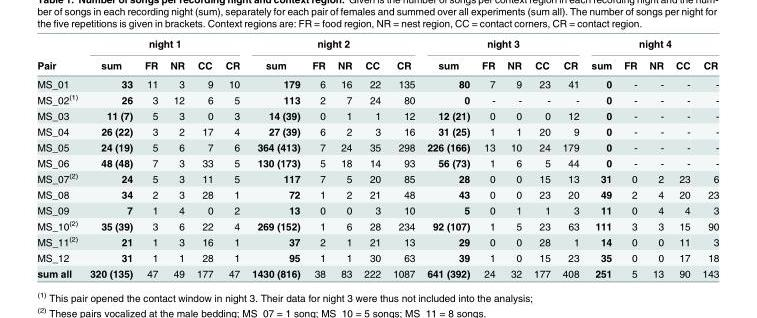table: (36, 37, 718, 278)
table column: (245, 37, 305, 278), (420, 37, 475, 278), (83, 37, 137, 278), (36, 37, 83, 278), (386, 37, 420, 278), (584, 37, 617, 278), (189, 37, 218, 278), (357, 37, 386, 278), (555, 37, 584, 278), (527, 37, 555, 278), (218, 37, 245, 278), (330, 37, 357, 278), (500, 37, 527, 278), (642, 37, 669, 278), (137, 37, 163, 278), (163, 37, 189, 278), (669, 37, 695, 278), (305, 37, 330, 278), (475, 37, 500, 278), (617, 37, 642, 278), (695, 37, 718, 278)
table column header: (36, 37, 718, 74)
table row: (36, 53, 718, 74), (36, 90, 718, 107), (36, 169, 718, 186), (36, 37, 718, 53), (36, 74, 718, 90), (36, 107, 718, 123), (36, 138, 718, 154), (36, 201, 718, 217), (36, 217, 718, 233), (36, 233, 718, 249), (36, 249, 718, 265), (36, 123, 718, 138), (36, 154, 718, 169), (36, 186, 718, 201), (36, 265, 718, 278)
table spanning cell: (245, 37, 420, 53), (420, 37, 584, 53), (83, 37, 245, 53), (584, 37, 718, 53), (36, 37, 83, 74)
